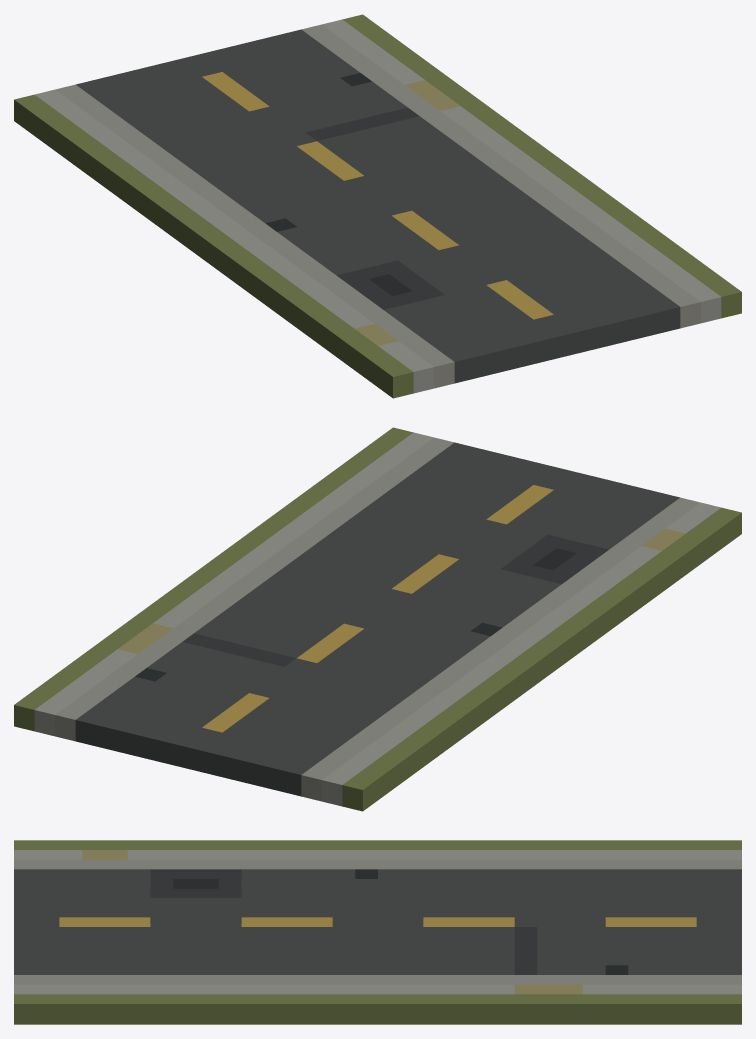
The model's file is Claude_road_straight.glb.
3 renders of one model, top to bottom at view 1: azimuth 30°, elevation 25°; view 2: azimuth 150°, elevation 25°; view 3: azimuth 270°, elevation 25°, orthographic. The views are drawn at different scales.
Visible parts, largest first — view 1: Claude_road_straight; view 2: Claude_road_straight; view 3: Claude_road_straight.
Part boxes in pixels (bbox=[...]): Claude_road_straight: bbox=[14, 14, 741, 398]; Claude_road_straight: bbox=[14, 427, 741, 811]; Claude_road_straight: bbox=[14, 840, 741, 1024].
Size of the model in its own units: 8.5 by 0.5 by 16.
